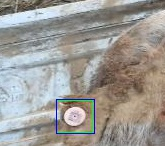text: (56, 100, 92, 132)
